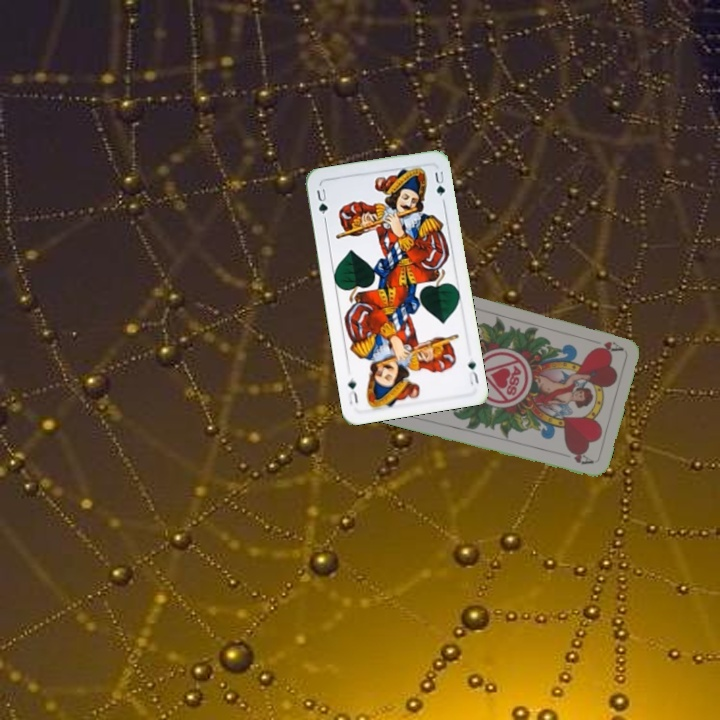GU: (312, 185, 331, 217), (464, 357, 481, 387)
HA: (585, 335, 625, 355)
